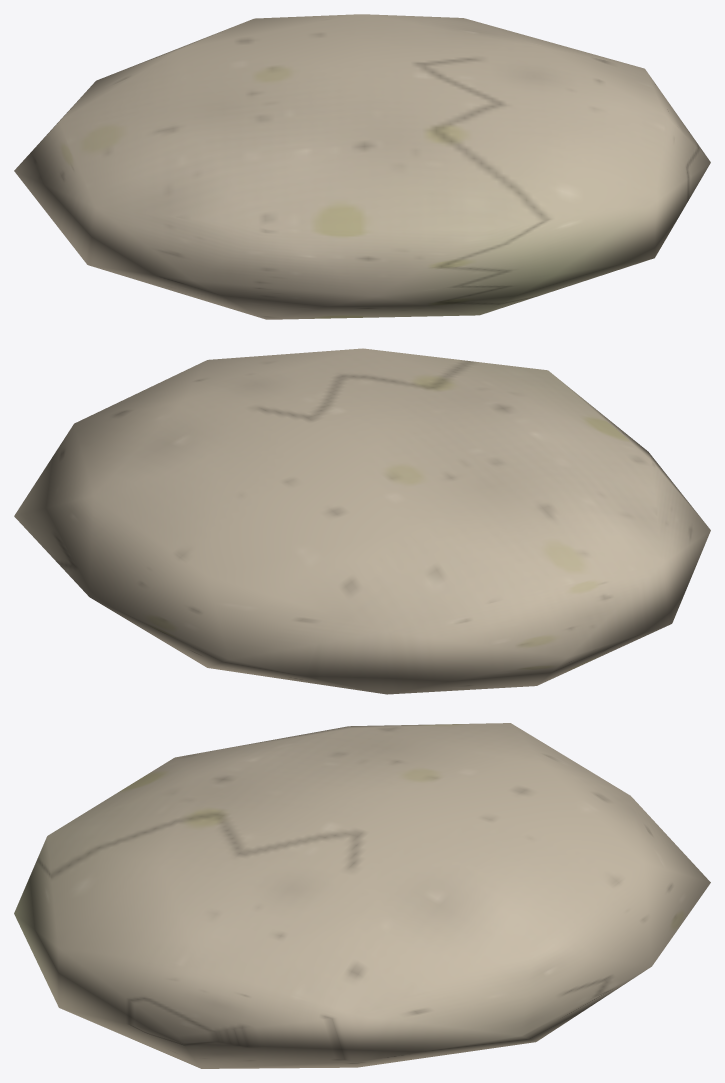
Rendered from region-prop-289.glb.
3 views of the same model, one above another, from view 1: azimuth 30°, elevation 25°; view 2: azimuth 150°, elevation 25°; view 3: azimuth 270°, elevation 25° (orthographic). The views are drawn at different scales.
Parts seen in each view (by area): view 1: props_rock_0; view 2: props_rock_0; view 3: props_rock_0.
Boxes of the visible parts, box(x1,y1,x2,y2) form: props_rock_0: box(14, 14, 710, 319); props_rock_0: box(14, 348, 710, 694); props_rock_0: box(14, 723, 710, 1068).
Size of the model in its own units: 0.4107 by 0.1254 by 0.4102.
Materials: 1 (1 with a texture image).
